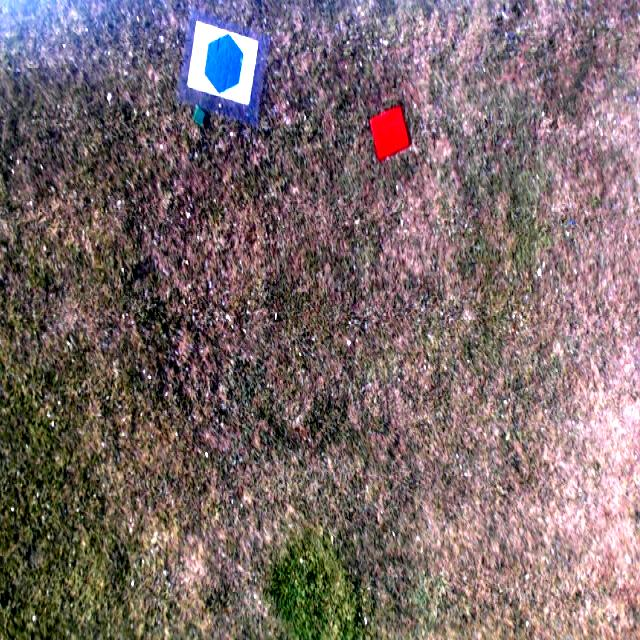blue_hexagon: (204, 33, 242, 95)
red_square: (371, 107, 409, 157)
